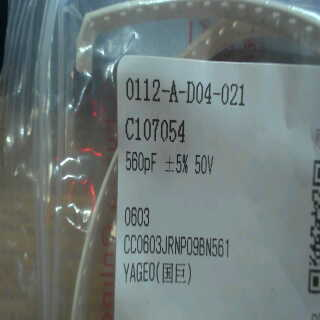560pF: (124, 146, 161, 174)
